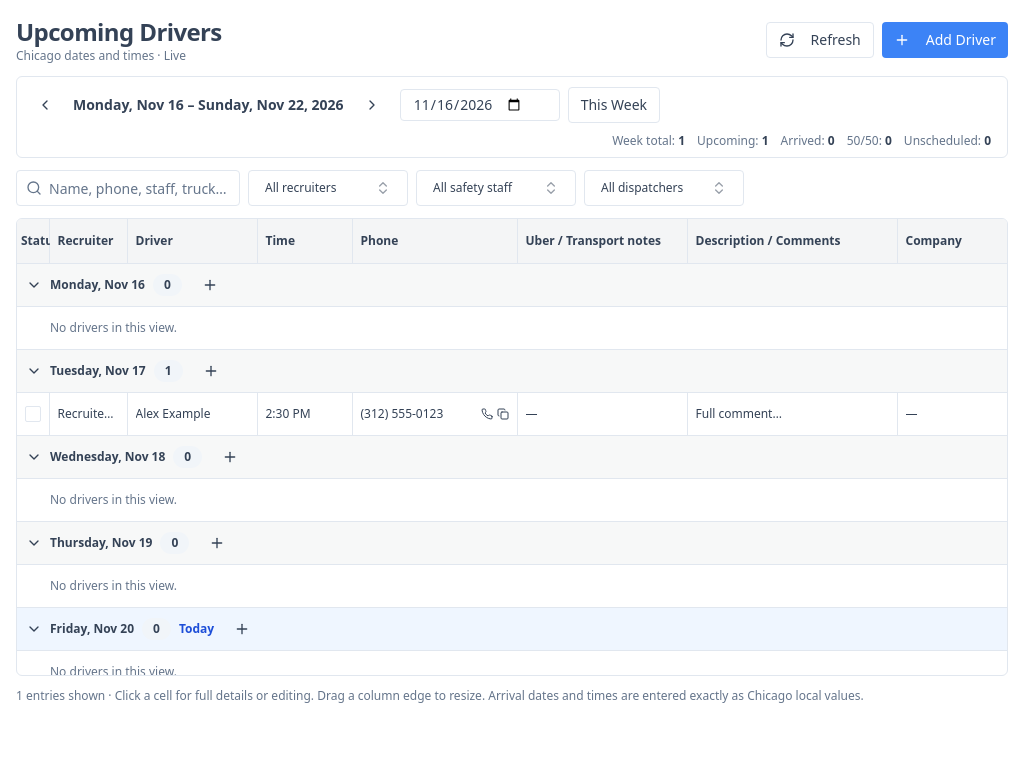
Test: Weekly board › opens the full comment from its compact cell
Click the button with aria-label "Description / Comments for Alex Example".
click(792, 414)  # box [696, 398, 888, 430]
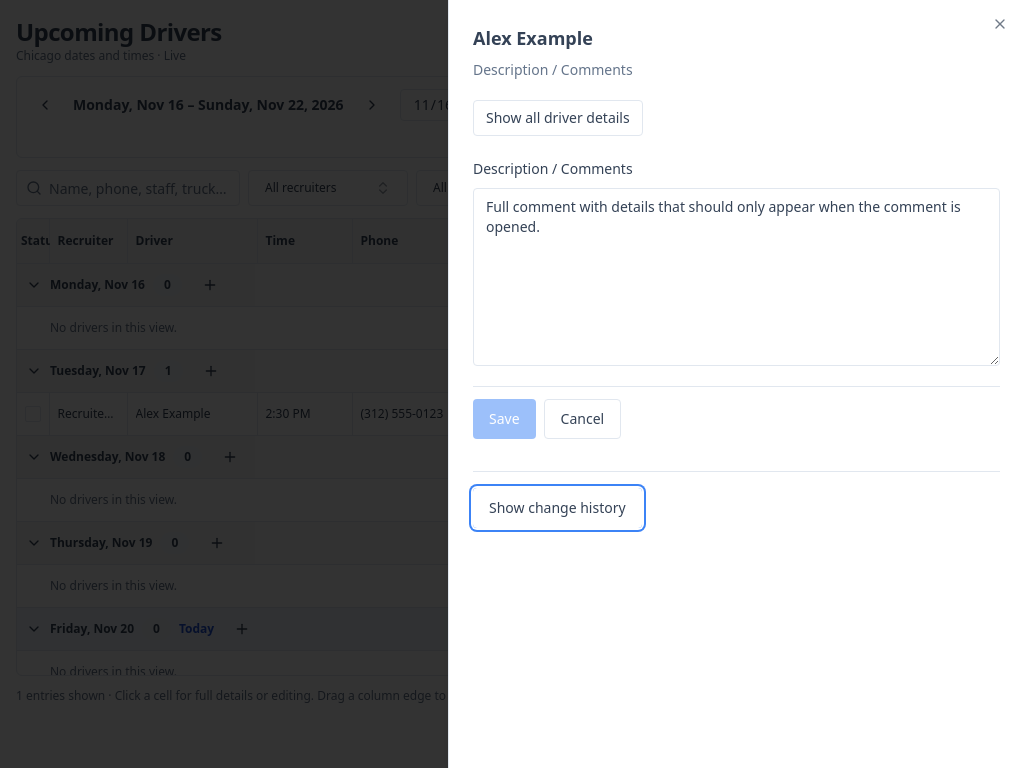
Result: the text box showing "Full comment with details that should only appear when the comment is opened." is shown at [473, 188, 1000, 366]
